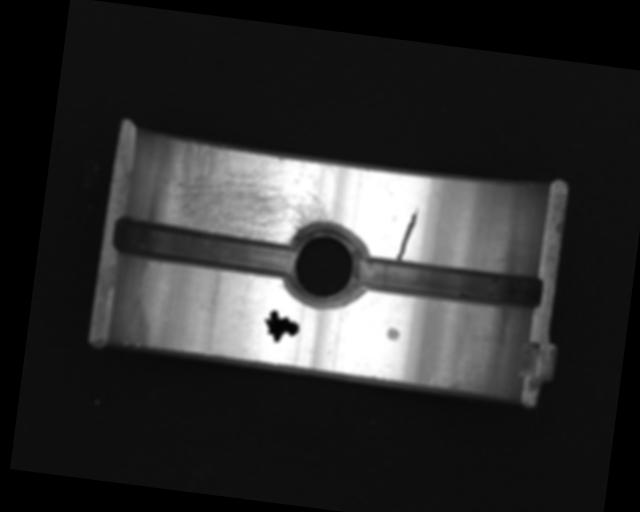blot: (261, 308, 302, 345)
bruise: (385, 326, 401, 342)
gap: (353, 250, 546, 314), (111, 216, 298, 279)
hole: (281, 218, 369, 313)
nick: (396, 203, 421, 263)
scratch: (156, 138, 337, 251)
